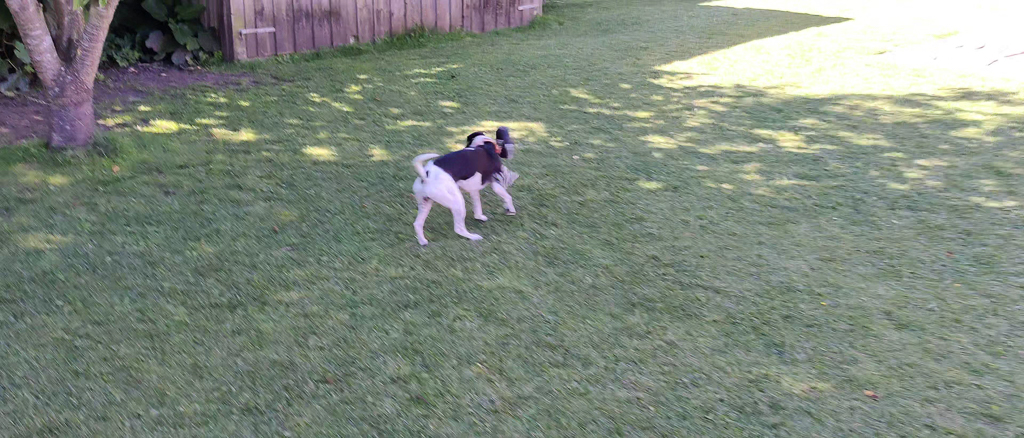Dog: (397, 123, 542, 248)
